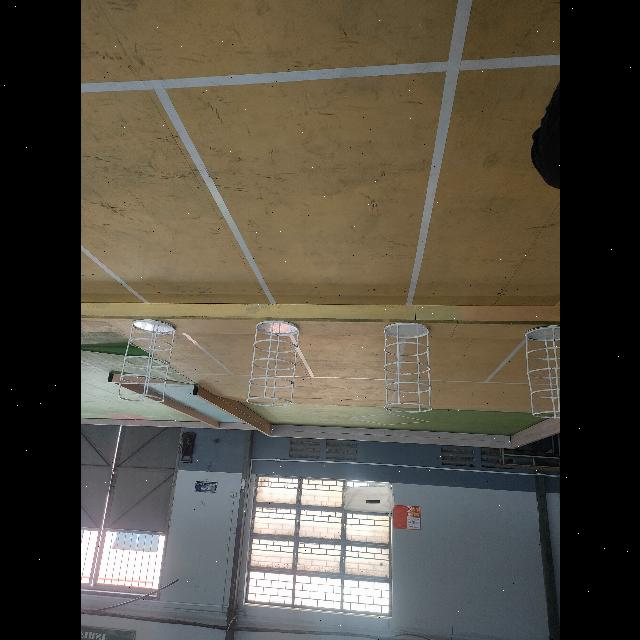S: (116, 318, 176, 404), (245, 319, 301, 409), (382, 321, 433, 414), (523, 324, 560, 420)
